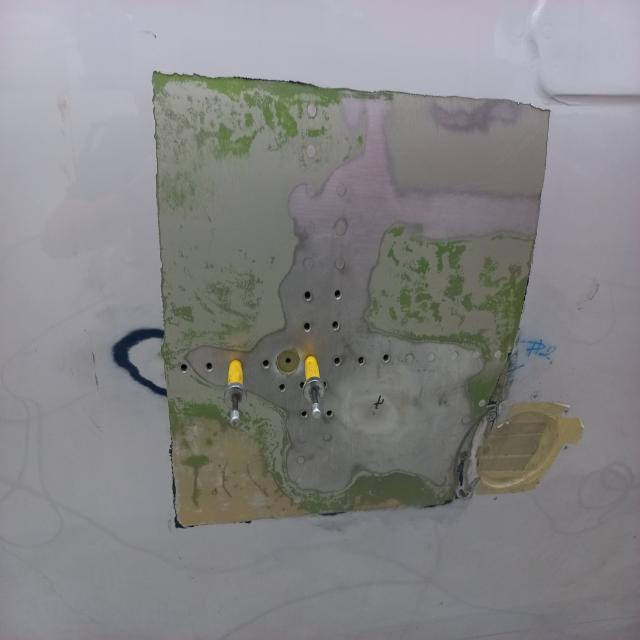Missing Fastener: (300, 288, 316, 304), (333, 286, 345, 302), (302, 320, 314, 336), (203, 358, 215, 374), (355, 354, 367, 368), (298, 408, 310, 420), (380, 352, 392, 364), (332, 355, 344, 367), (178, 362, 190, 374), (259, 358, 271, 370), (296, 381, 308, 392), (330, 320, 340, 332), (326, 408, 334, 419), (278, 382, 286, 393), (321, 380, 329, 390), (284, 357, 292, 365)
